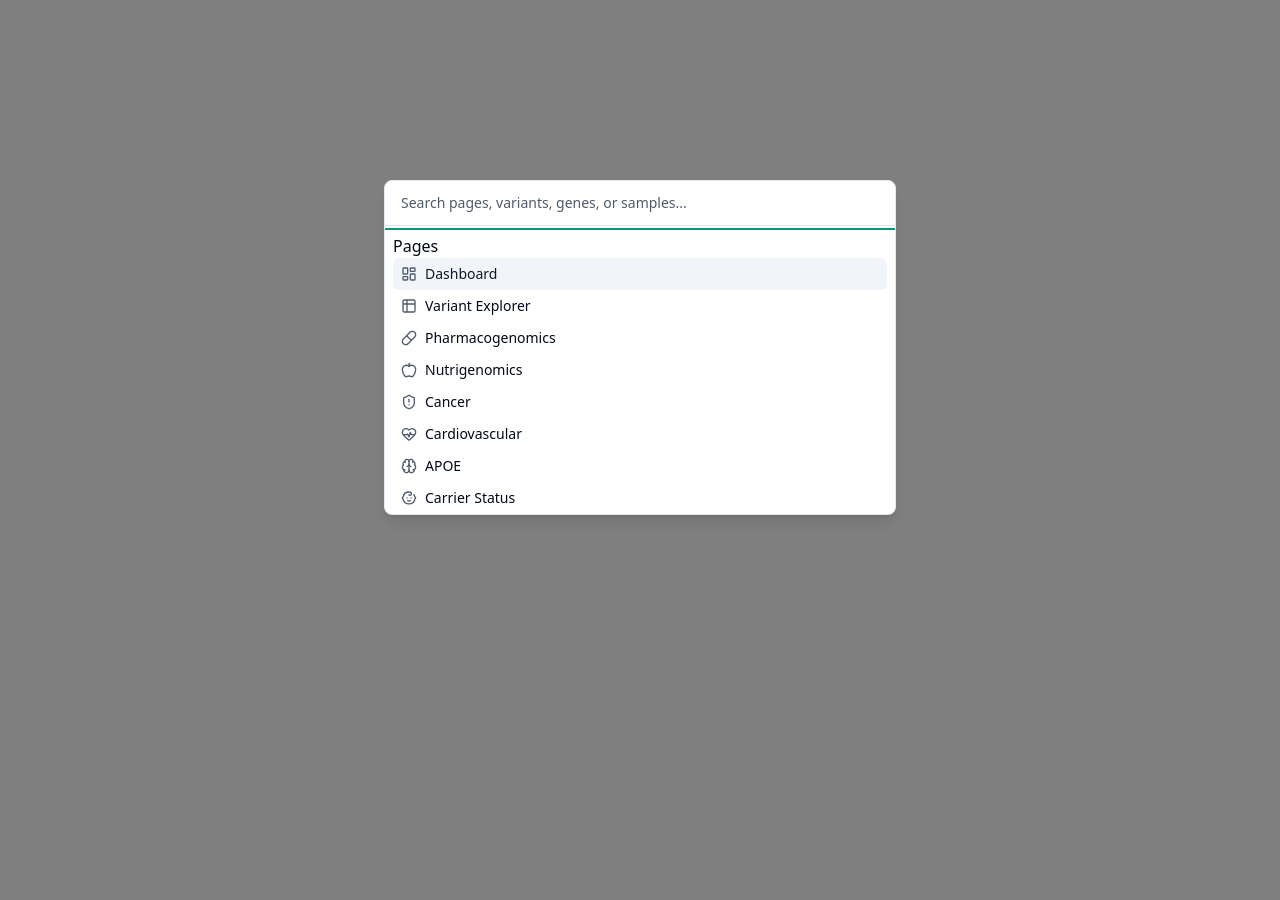
it: CommandPalette › shows IGV navigation item for gene queries
Step 1. Type "BRCA1" into the dropdown with test id "command-palette-input" → (640, 204), box [385, 181, 895, 226]
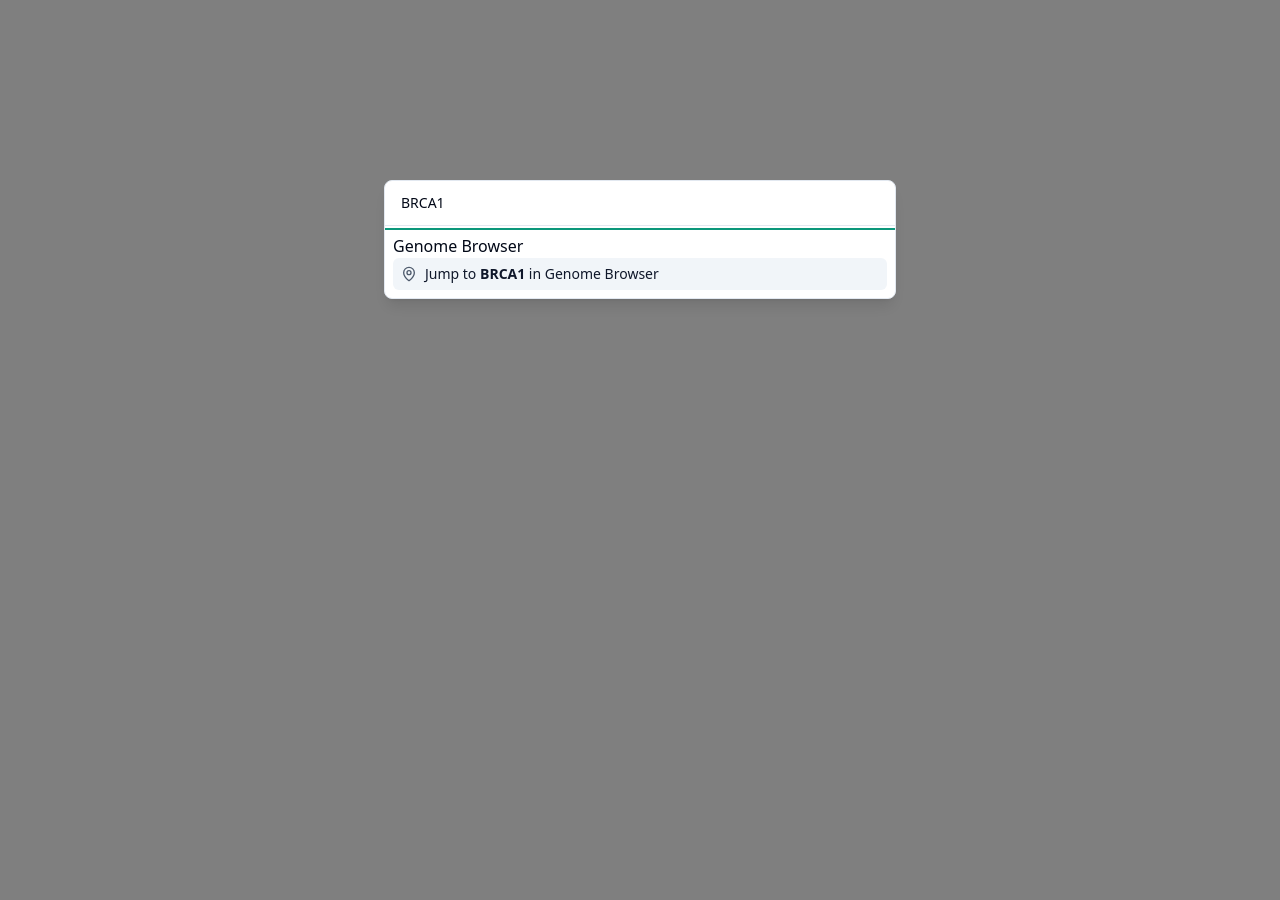
Now the option with test id "command-palette-igv-item" is shown, box [393, 258, 887, 290]
Now the text "Jump to BRCA1 in Genome Browser" is shown, box [425, 264, 659, 284]
Now the text "BRCA1" is shown, box [480, 264, 525, 283]
